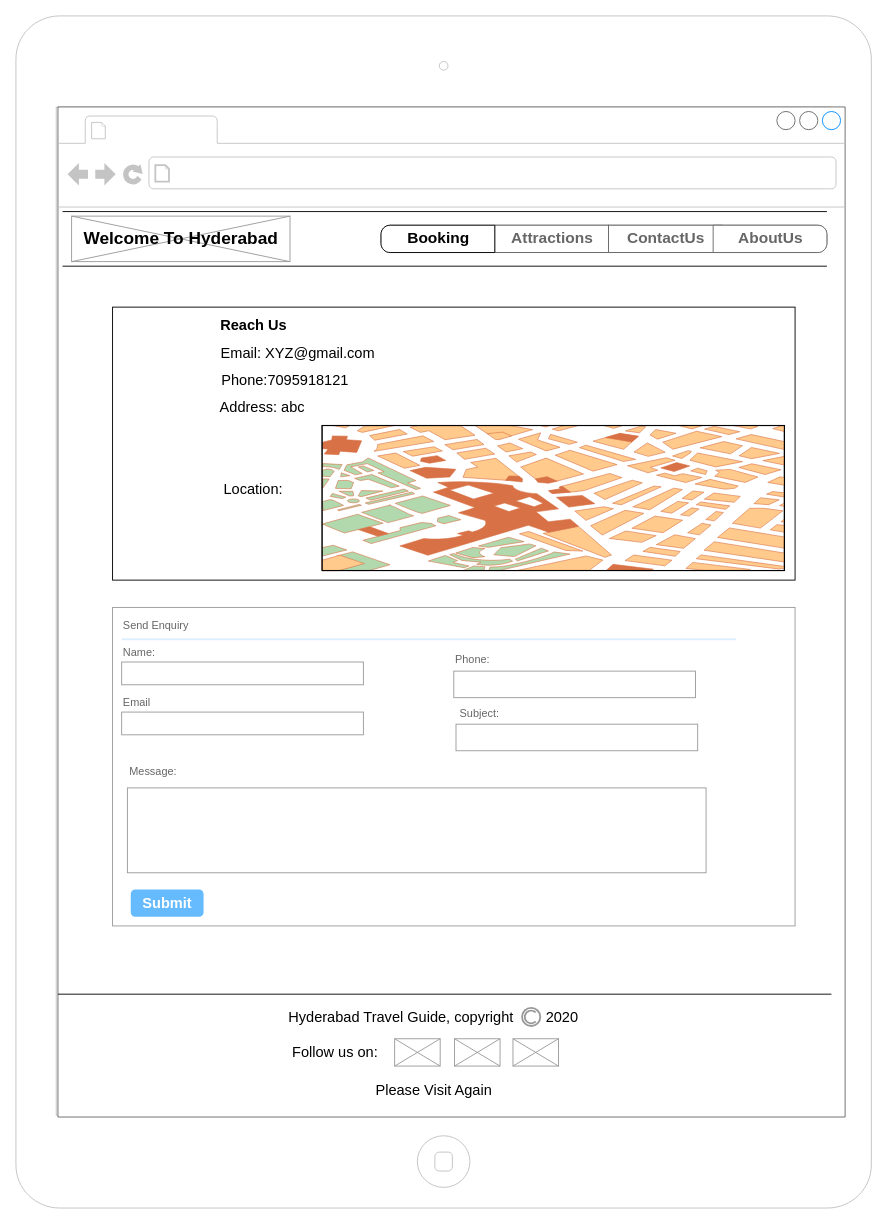
The diagram is 887 pixels wide and 1224 high, and some of its shapes have lost their labels. The shapes that lost their labels are listed below. From the top down, each one's centre as x and y in pixels, then its label:
At point 162,129: "Contact Us".
At point 289,173: "https://penchalaprasadkommi.github.io/HydTravelWebsite/contactus.html".
